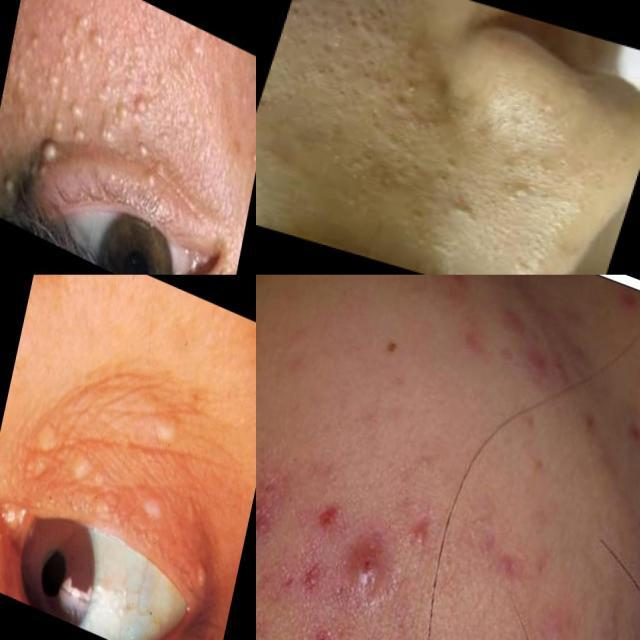Pimples: (8, 411, 178, 554), (330, 510, 409, 625), (348, 17, 438, 108), (96, 74, 166, 177), (390, 120, 470, 200), (52, 5, 106, 86), (46, 74, 94, 157), (131, 394, 189, 458), (312, 0, 380, 50), (331, 132, 387, 192), (483, 535, 533, 599), (489, 170, 535, 216), (402, 506, 436, 556), (280, 0, 316, 44), (0, 166, 22, 203), (240, 126, 256, 175)
